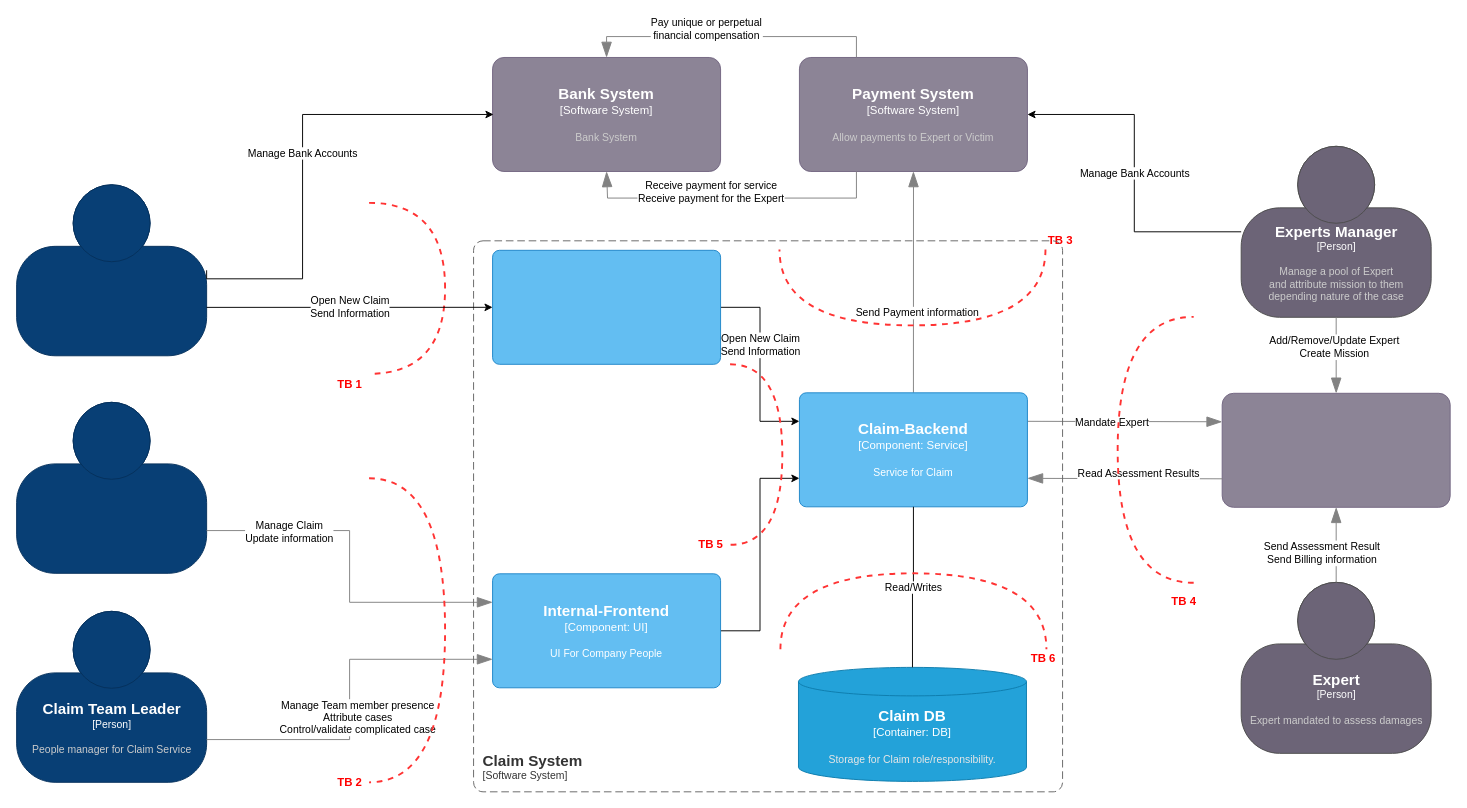
Some shapes in this 1467 by 808 pixel diagram are drawn without their labels. Here are the shapes that lost their labels. From the top down, the centre of each, then its label:
pixel 111 270: Victim [Person] Damage victim
pixel 606 306: External-Frontend [Component: UI] UI For Victims
pixel 1335 449: Expert System [Software System] Allow to mandate expert to audit the damages
pixel 111 487: Claim Manager [Person] Responsible to assess the claim
